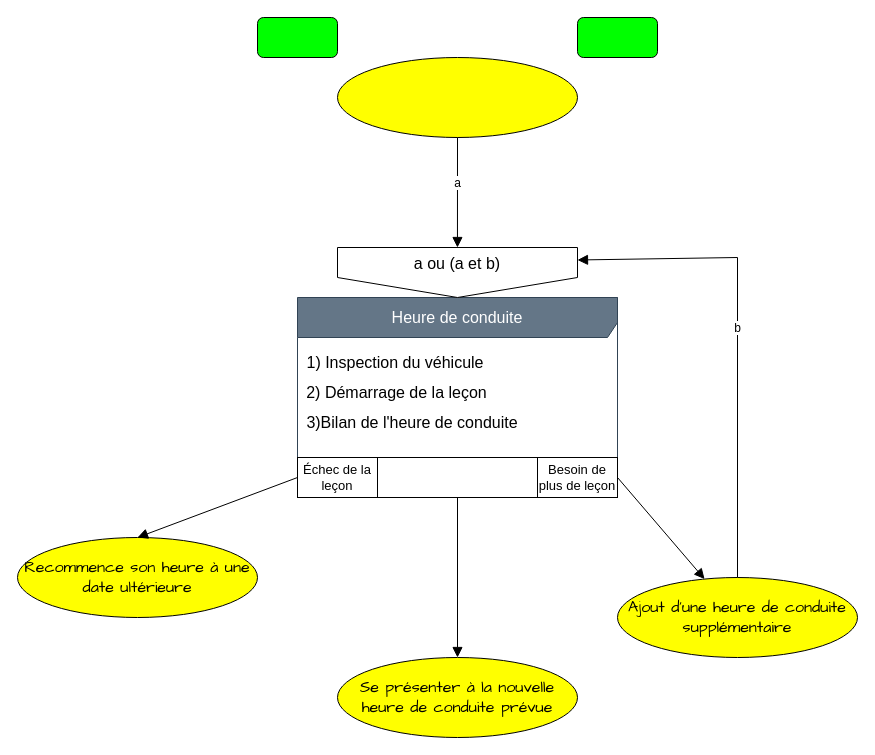
Image size: 875x755. Some labels were removed from this diagram. Here are the shapes that lost their labels. From the top down, the centre of each, then its label:
At (297,37): "Elève".
At (617,37): "Moniteur".
At (457,97): "Se présenter à l'heure de conduite".
At (457,477): "Réussite de la leçon".
